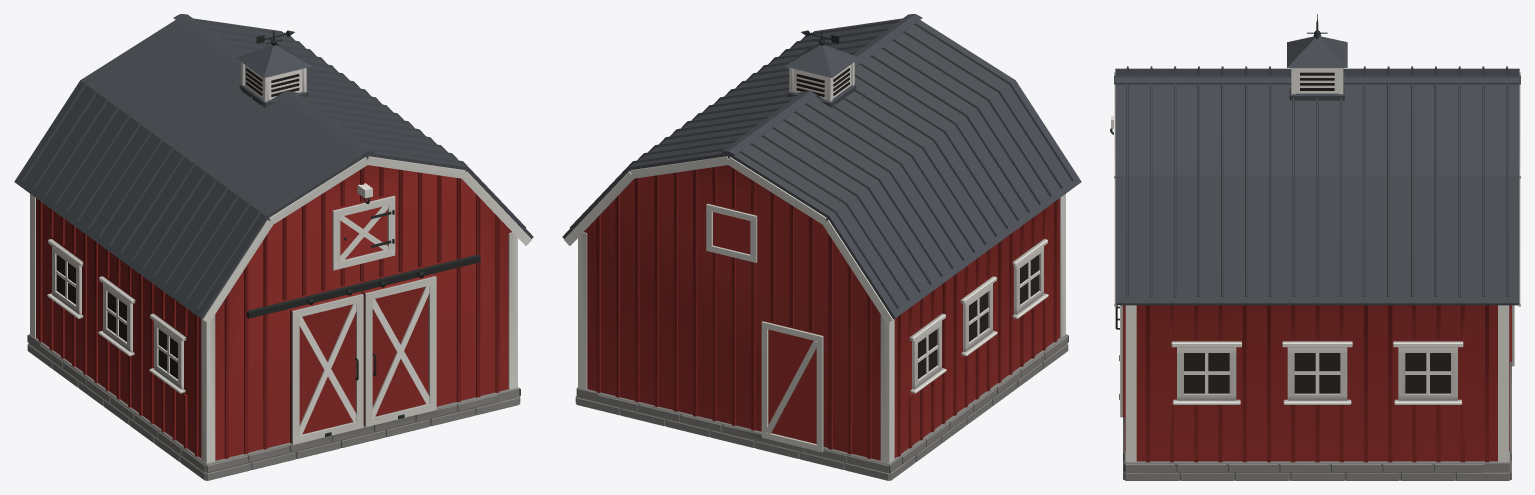
Rendered from barn.glb.
3 renders of one model, left to right at view 1: azimuth 30°, elevation 25°; view 2: azimuth 150°, elevation 25°; view 3: azimuth 270°, elevation 25°, orthographic. The views are drawn at different scales.
Parts seen in each view (by area): view 1: barn; view 2: barn; view 3: barn.
Part boxes in pixels (box(x1,y1,x2,y2)): barn: box(14, 14, 533, 480); barn: box(562, 14, 1081, 480); barn: box(1110, 14, 1520, 480).
Bounding box in the file's own units: 6.04 × 6 × 5.94.
